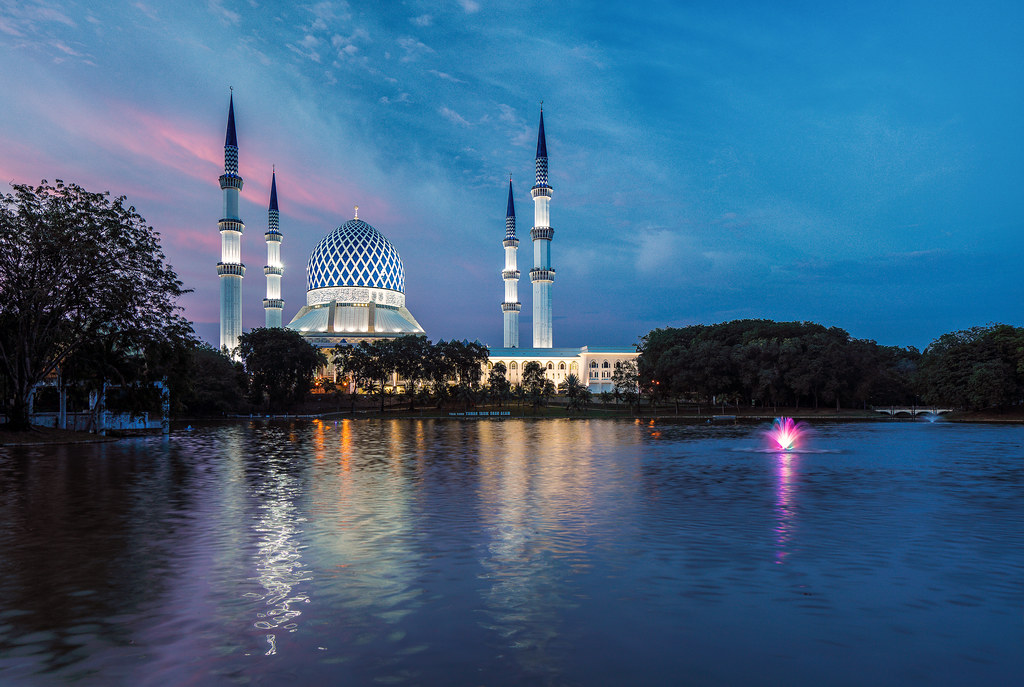Mosque: (202, 77, 631, 395)
